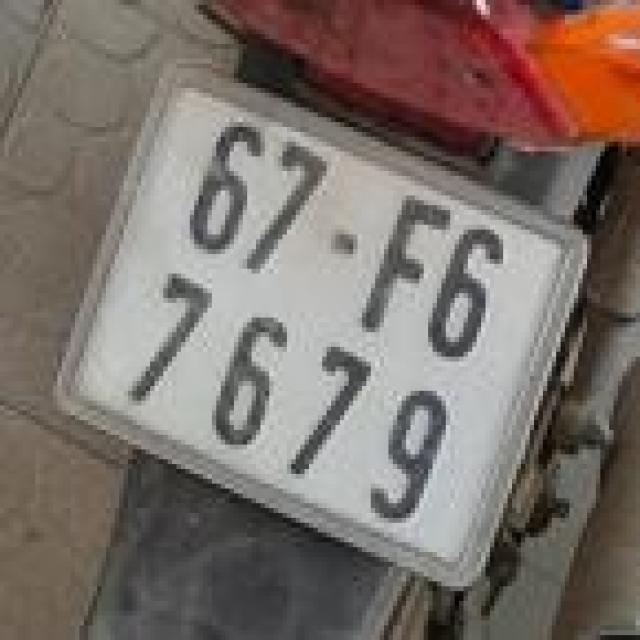6: (197, 291, 316, 463), (174, 105, 283, 271), (415, 210, 523, 376)
7: (107, 257, 228, 420), (231, 128, 342, 295), (270, 329, 381, 496)
9: (352, 366, 476, 534)
F: (348, 179, 466, 346)
